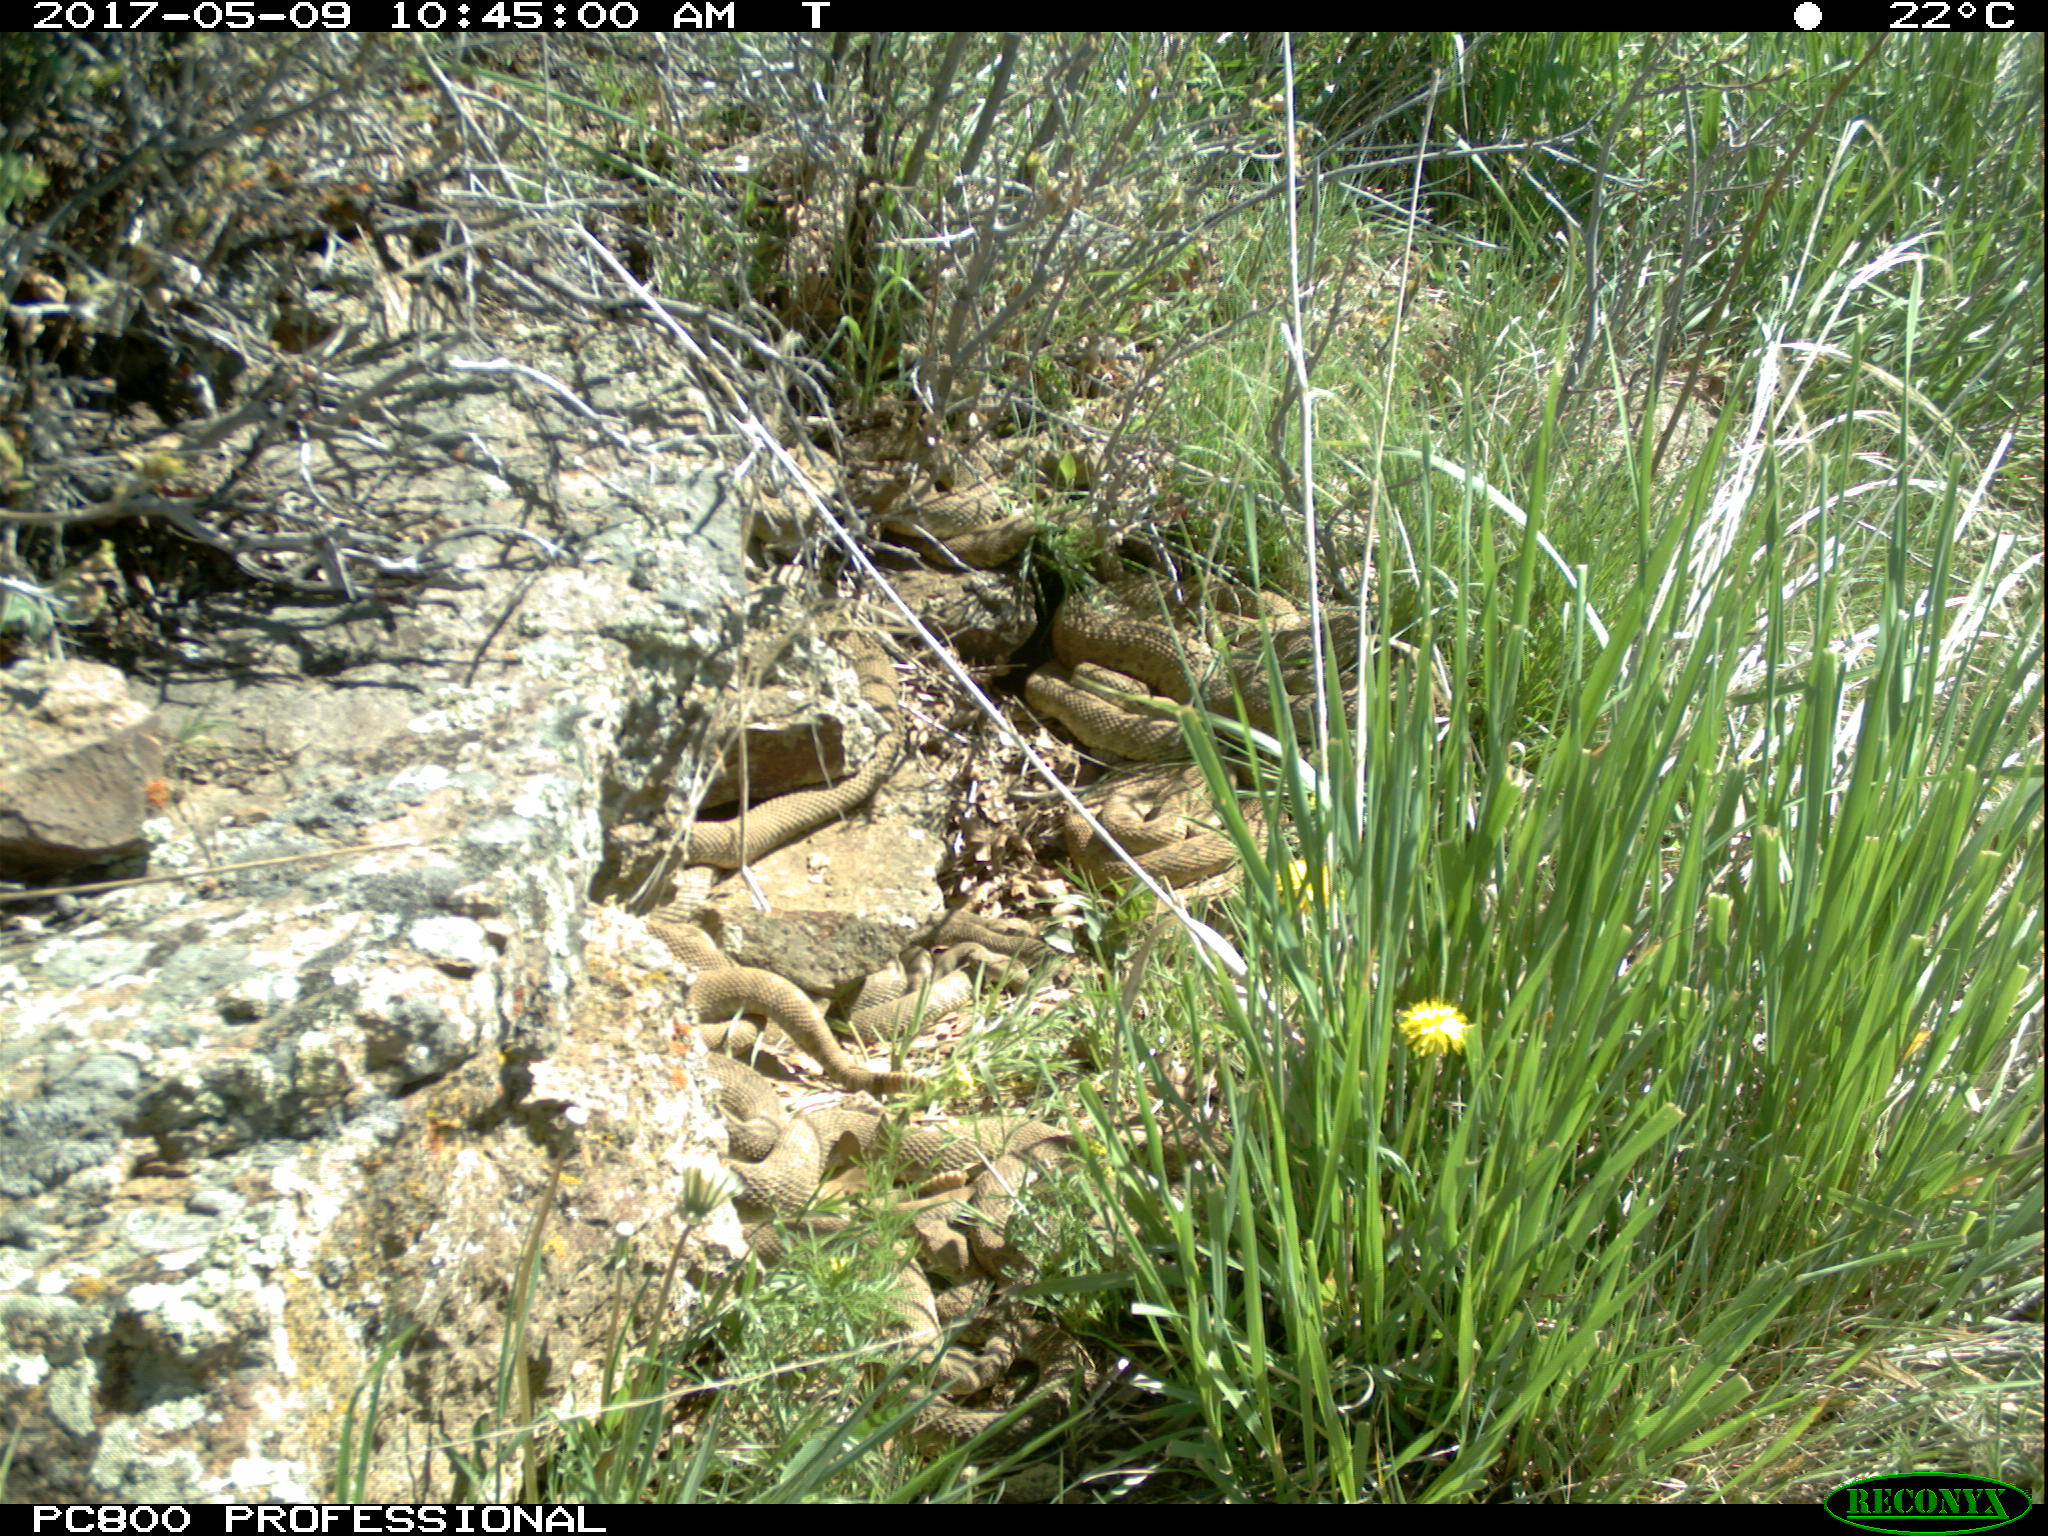snake: (656, 923, 926, 1217), (1026, 576, 1364, 758), (901, 1281, 1106, 1454), (677, 728, 914, 870), (905, 1128, 1134, 1265), (1077, 763, 1284, 899), (839, 437, 1043, 563), (932, 908, 1071, 999)
